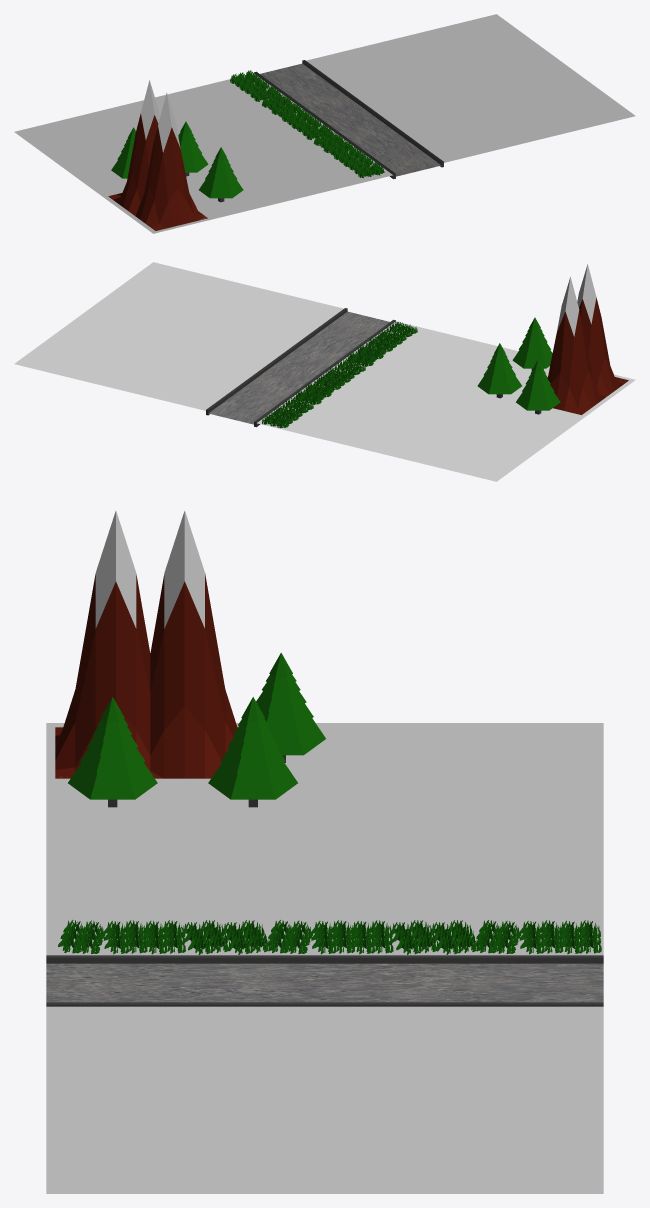
The model's file is Module_4_SM2.FBX.
The picture shows the model from 3 angles, top to bottom: view 1: azimuth 30°, elevation 25°; view 2: azimuth 150°, elevation 25°; view 3: azimuth 270°, elevation 25°; orthographic projection. The views are drawn at different scales.
Visible parts, largest first — view 1: Module_4_SM2_LOD0; view 2: Module_4_SM2_LOD0; view 3: Module_4_SM2_LOD0.
Part boxes in pixels (x1,y1,x2,y2): Module_4_SM2_LOD0: (14, 14, 635, 233); Module_4_SM2_LOD0: (14, 262, 635, 481); Module_4_SM2_LOD0: (46, 510, 603, 1193).
Size of the model in its own units: 10000 by 5000 by 2484.
